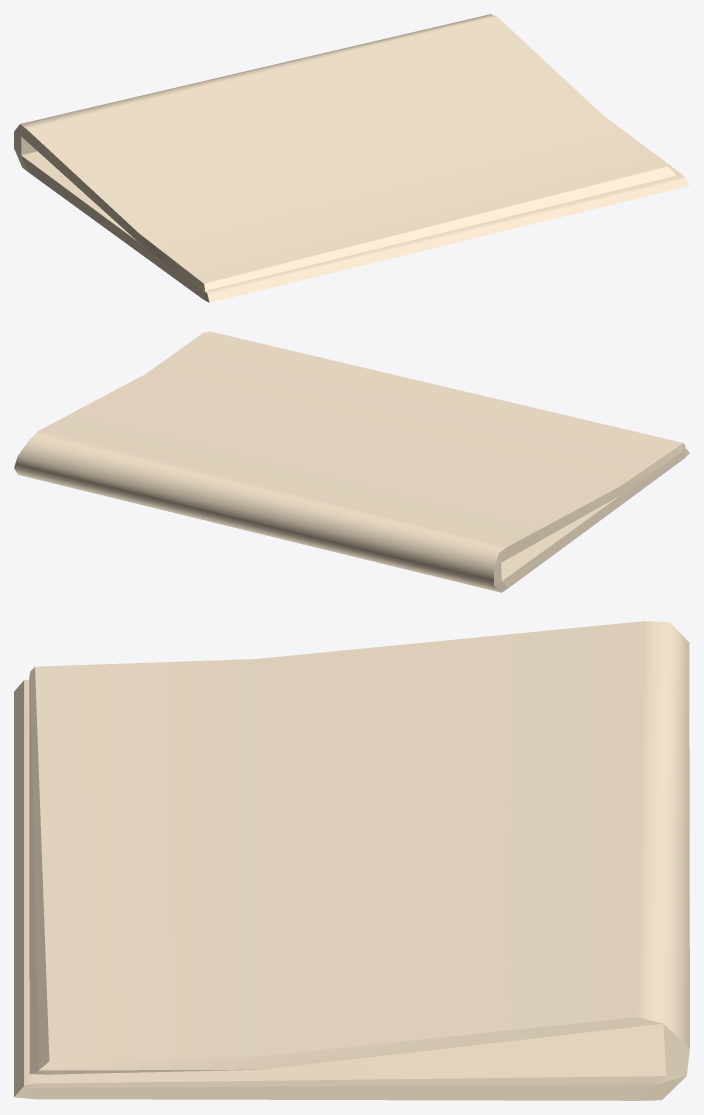
The model's file is SM_Newspaper3.fbx.
The picture shows the model from 3 angles, top to bottom: view 1: azimuth 30°, elevation 25°; view 2: azimuth 150°, elevation 25°; view 3: azimuth 270°, elevation 25°; orthographic projection. The views are drawn at different scales.
Visible parts, largest first — view 1: SM_Newspaper3; view 2: SM_Newspaper3; view 3: SM_Newspaper3.
Part boxes in pixels (x1,y1,x2,y2): SM_Newspaper3: (14,14,689,302); SM_Newspaper3: (14,331,689,592); SM_Newspaper3: (14,621,689,1100).
Size of the model in its own units: 45.72 by 32.09 by 3.84.
1 material, 1 textured.
